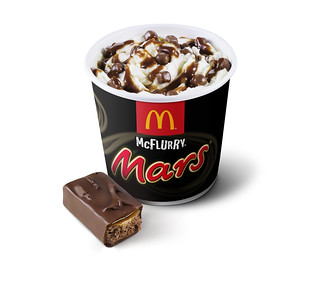mcdonalds: (144, 106, 177, 133)
